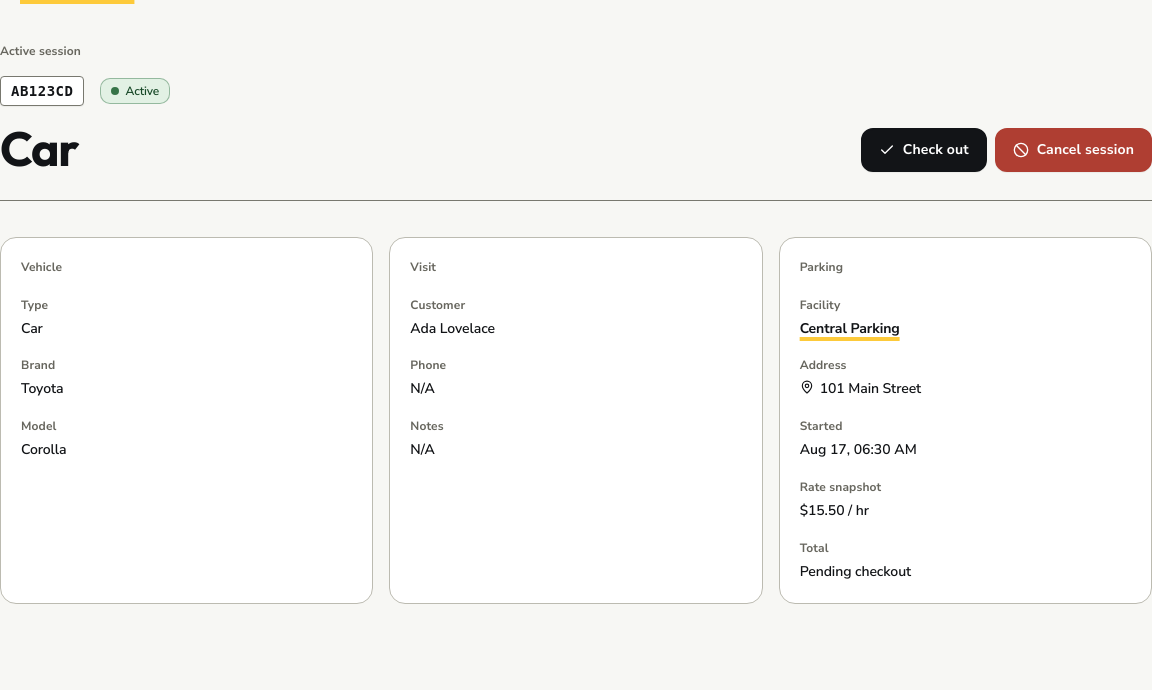
parking session completion › shows the checkout calculation before asking the backend to complete an active session
Click the button "Check out" at x=924, y=150, box [861,128,987,172]
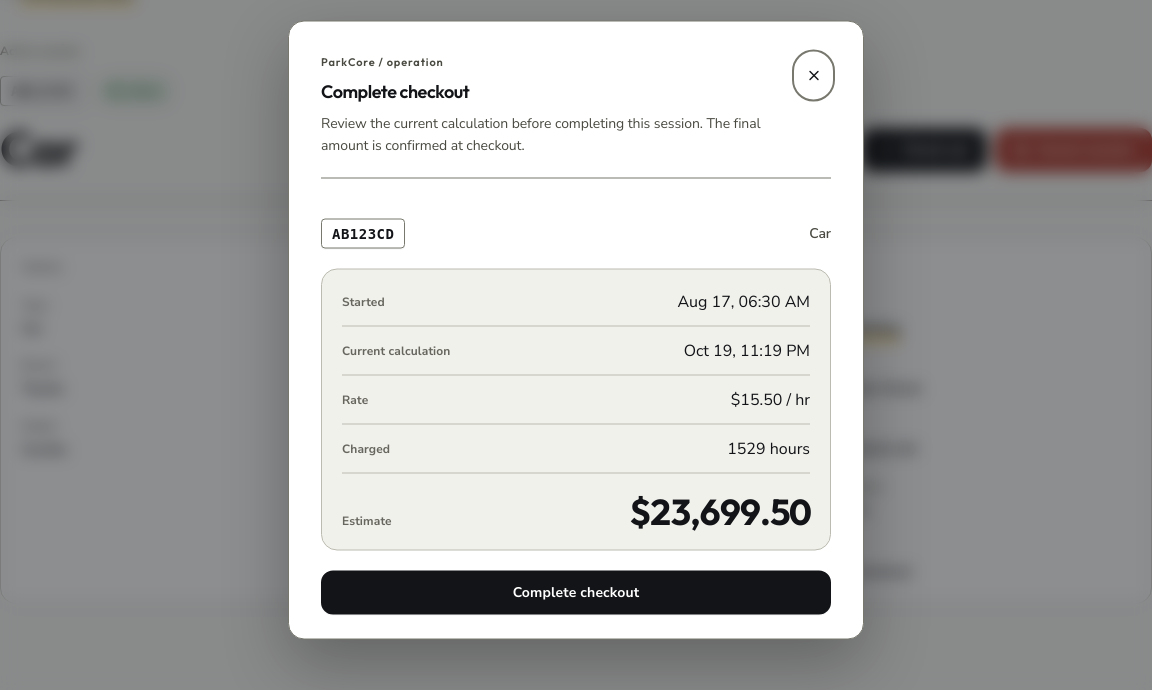
Expected: the dialog "Complete checkout" is shown, [288,20,864,640]
Expected: the text "Current calculation" is shown, [342,342,450,360]
Click the button "Complete checkout" at x=576, y=592, box [321,570,831,614]
(page scrolled)
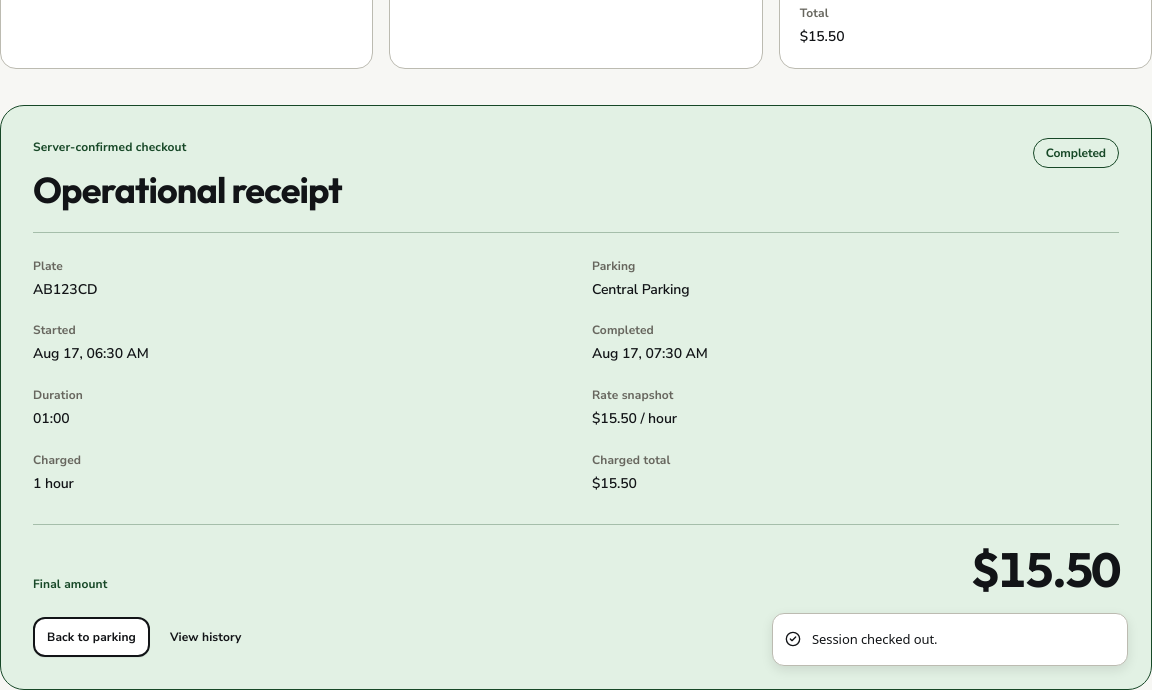
Expected: the text "Session checked out." is shown, [812,630,938,649]
Expected: the element "Operational receipt" is shown
